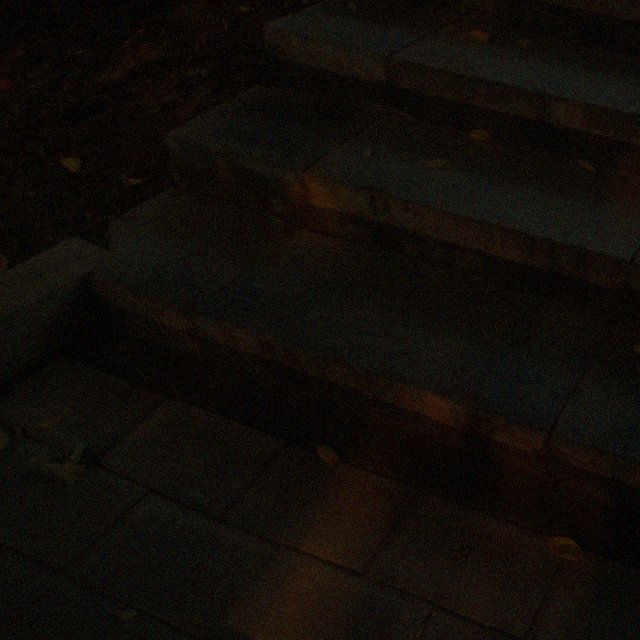stair: (78, 0, 639, 550)
